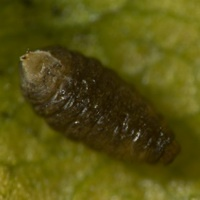insect: (20, 46, 179, 163)
